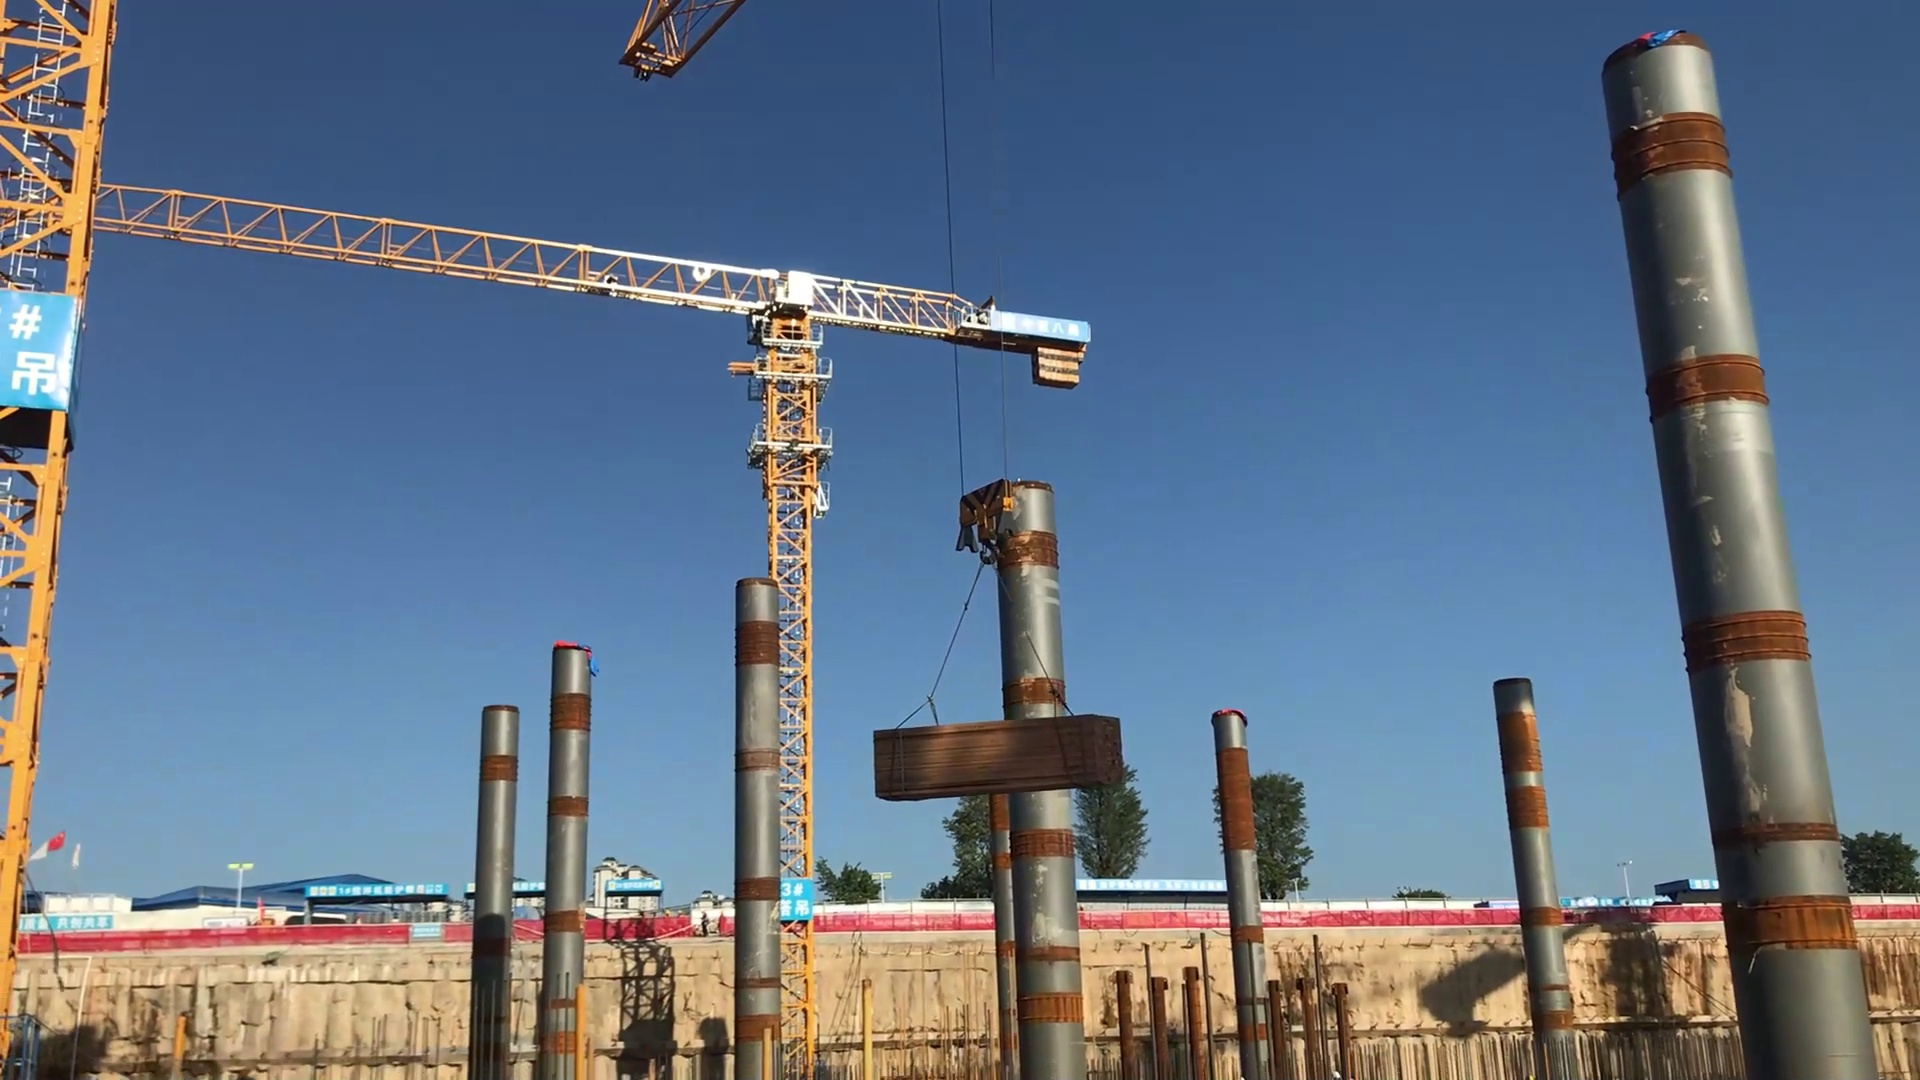hook: (956, 473, 1013, 554)
slogan: (290, 872, 458, 916), (12, 901, 112, 935)
wood: (856, 698, 1147, 810)
